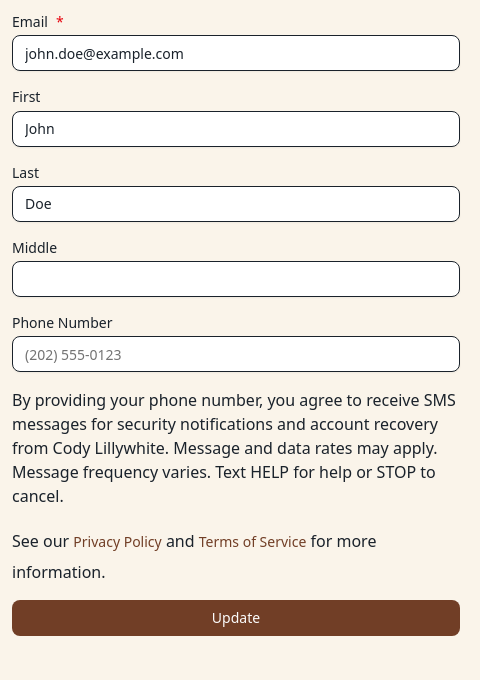
UserSettingsForm › should show error when email is invalid
The width and height of the screenshot is (480, 680).
Replace the text in the field named "email" with "invalid-email" at (236, 53), box [12,35,460,71]
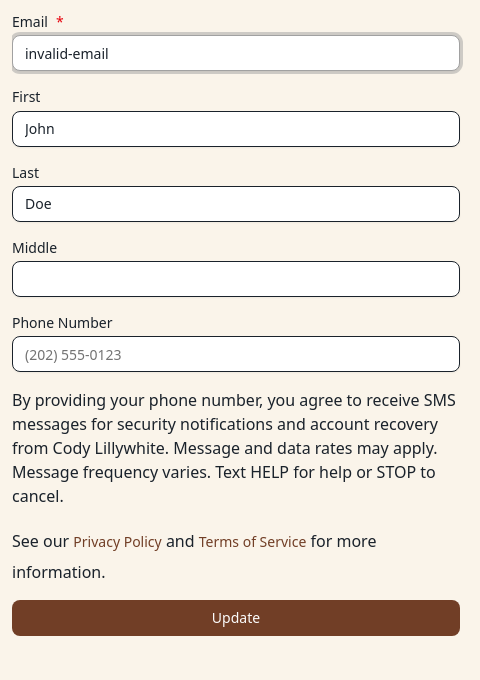
Click the submit button at (236, 618), box [12,600,460,636]
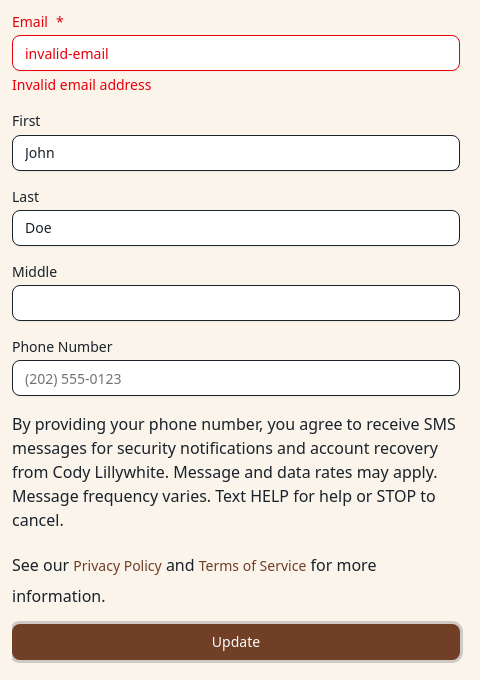
Now the message with test id "error-message-email" reads "Invalid email address", box [12,75,151,94]
